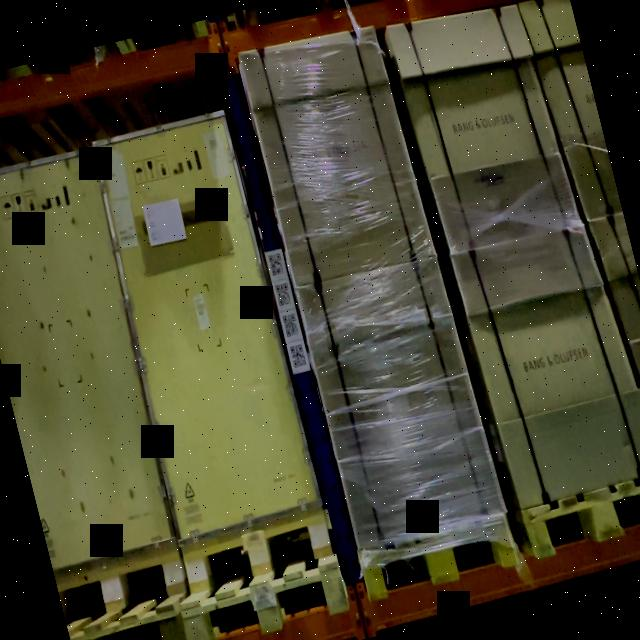box: (94, 109, 322, 539), (296, 255, 500, 548), (457, 221, 640, 507), (242, 26, 432, 286), (392, 2, 570, 252)
